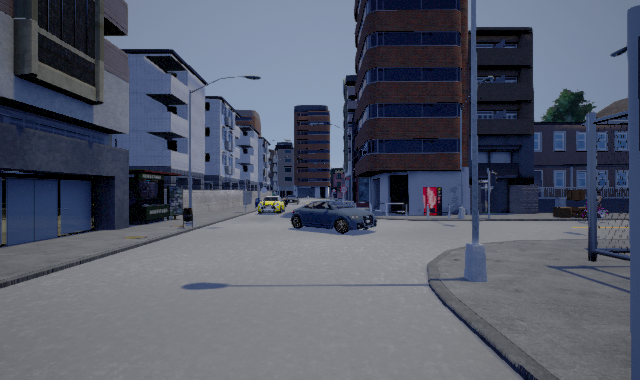traffic_sign: (340, 186, 347, 193)
vehicle: (290, 200, 377, 234), (258, 195, 286, 215)
